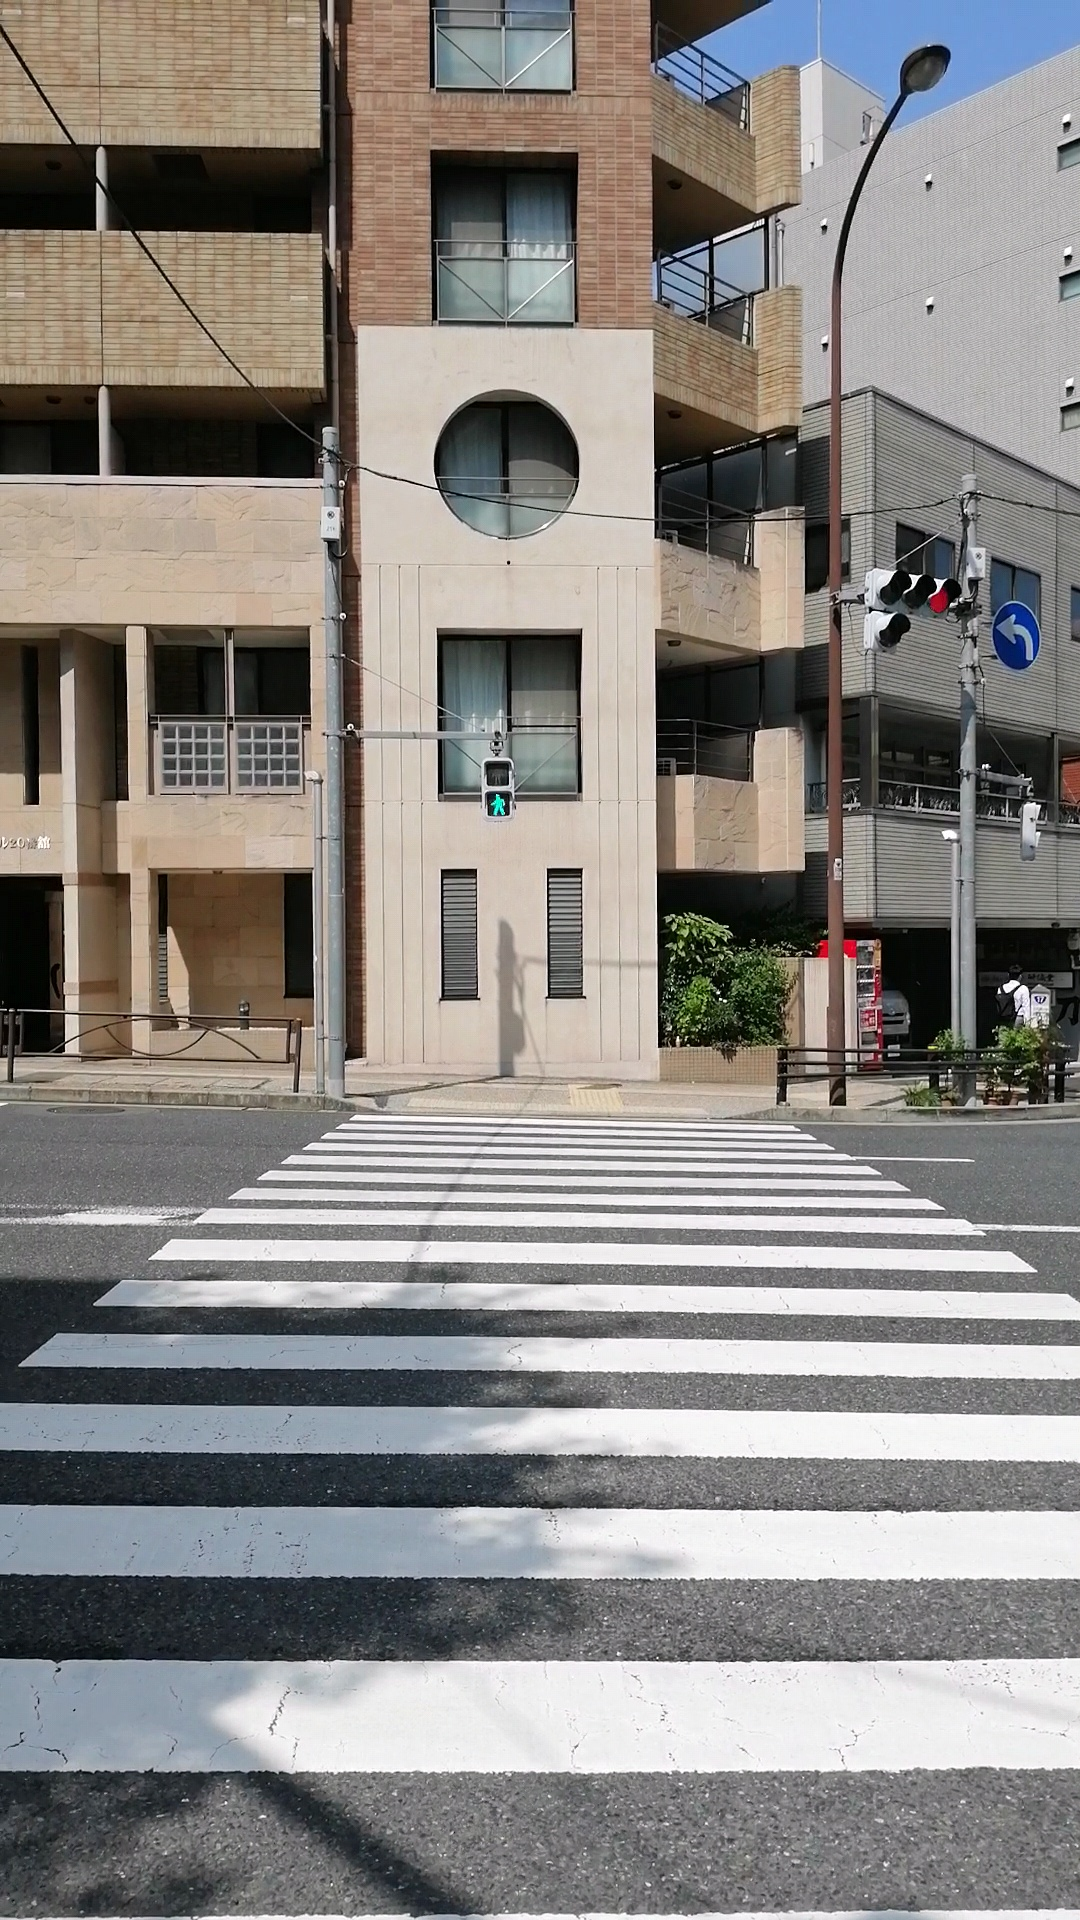green: (481, 756, 514, 822)
